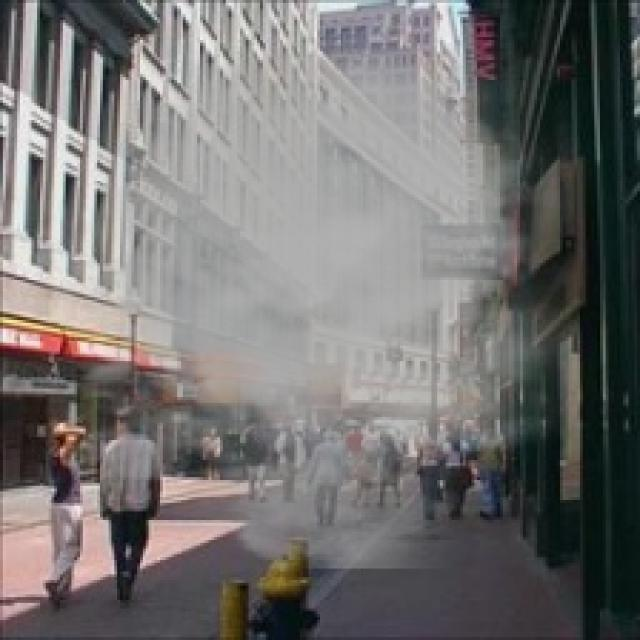Smoke: (14, 22, 580, 568)
